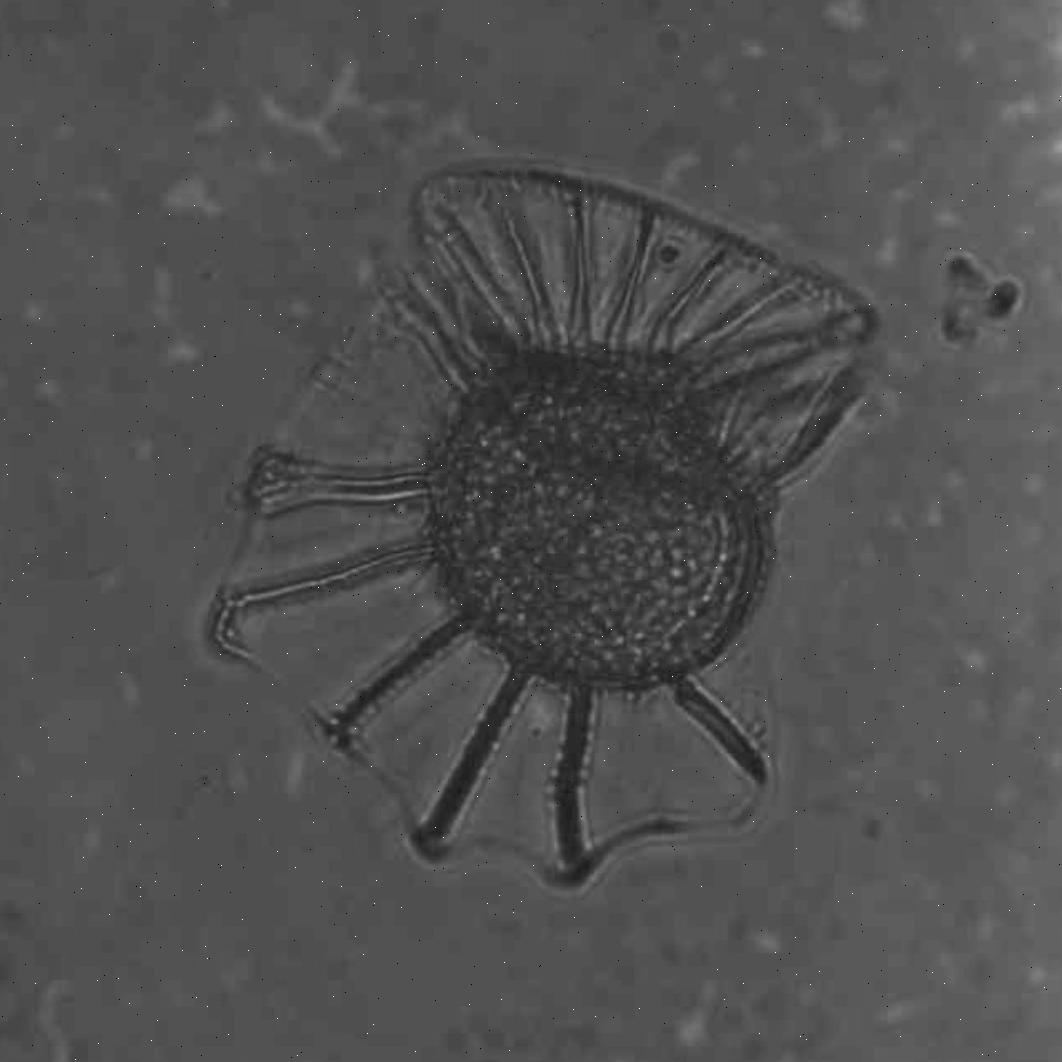ornithocercus_thumii: (211, 161, 890, 890)
